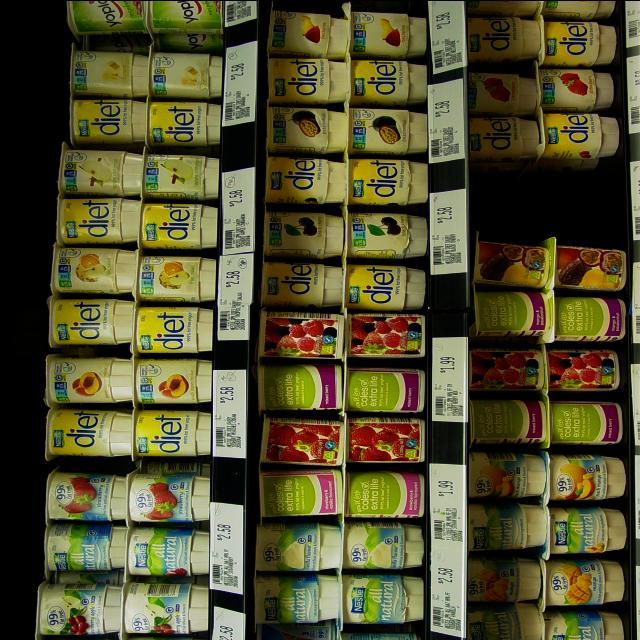empty_space: (481, 173, 611, 234)
